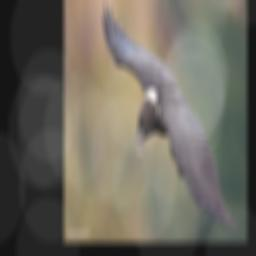Crow: (101, 0, 238, 234)
